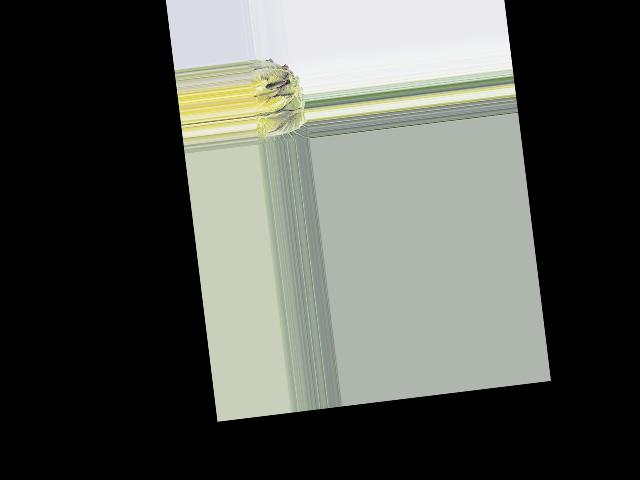lettuce: (247, 57, 307, 144)
